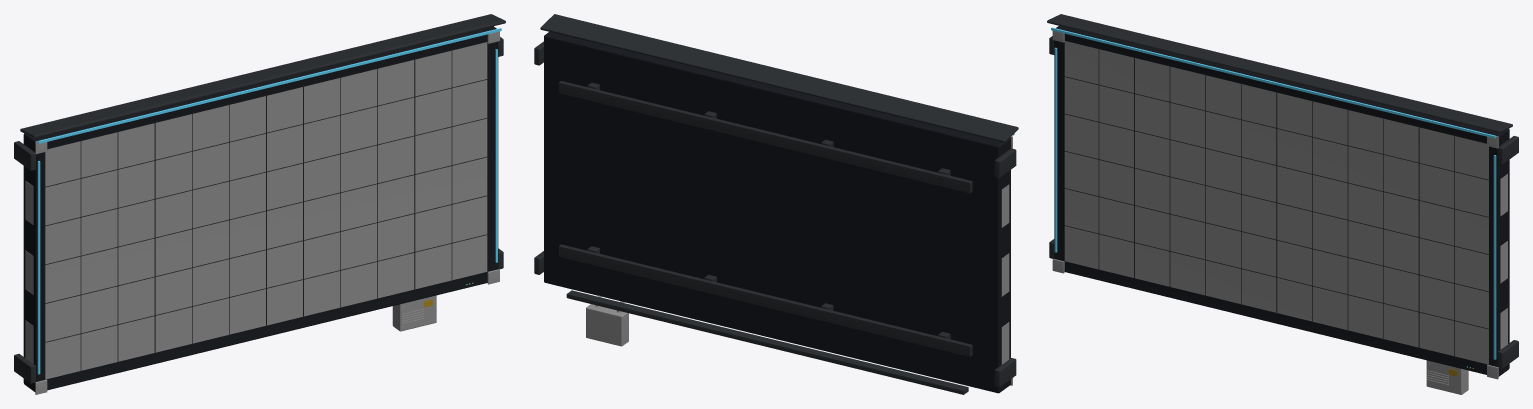
File: Billboard_LED_Wall_6x3.fbx
The picture shows the model from 3 angles, left to right: view 1: azimuth 30°, elevation 25°; view 2: azimuth 150°, elevation 25°; view 3: azimuth 330°, elevation 25°; orthographic projection. The views are drawn at different scales.
Visible parts, largest first — view 1: Billboard_LED_Wall_6x3_LOD0; view 2: Billboard_LED_Wall_6x3_LOD0; view 3: Billboard_LED_Wall_6x3_LOD0.
Boxes of the visible parts, box(x1,y1,x2,y2) form: Billboard_LED_Wall_6x3_LOD0: box(14, 14, 505, 394); Billboard_LED_Wall_6x3_LOD0: box(534, 14, 1018, 394); Billboard_LED_Wall_6x3_LOD0: box(1047, 14, 1518, 394).
Size of what is drawn, in the model's own units: 6.38 by 3.86 by 0.528.
